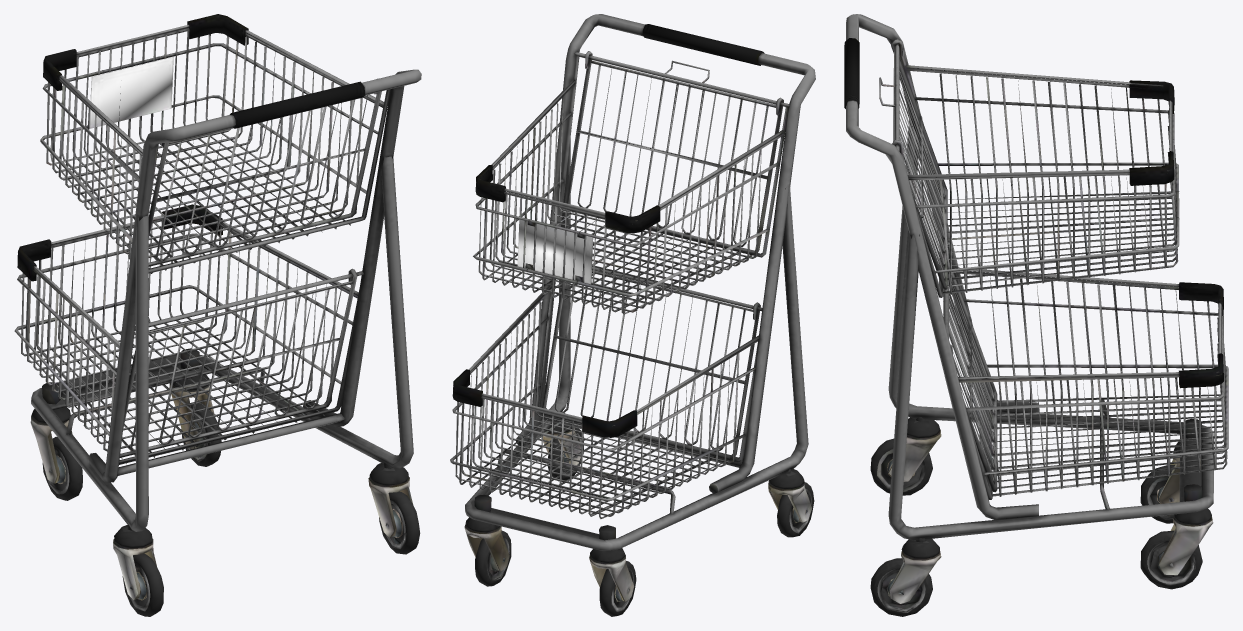
The model's file is cart.glb.
3 renders of one model, left to right at view 1: azimuth 30°, elevation 25°; view 2: azimuth 150°, elevation 25°; view 3: azimuth 270°, elevation 25°, orthographic. The views are drawn at different scales.
Visible parts, largest first — view 1: object_0_w; view 2: object_0_w; view 3: object_0_w.
Part boxes in pixels (left/top/right/bottom): object_0_w: left=14, top=14, right=421, bottom=616; object_0_w: left=450, top=14, right=815, bottom=616; object_0_w: left=844, top=14, right=1228, bottom=616.
Size of the model in its own units: 0.6159 by 1.02 by 0.7291.
1 material, 1 textured.
